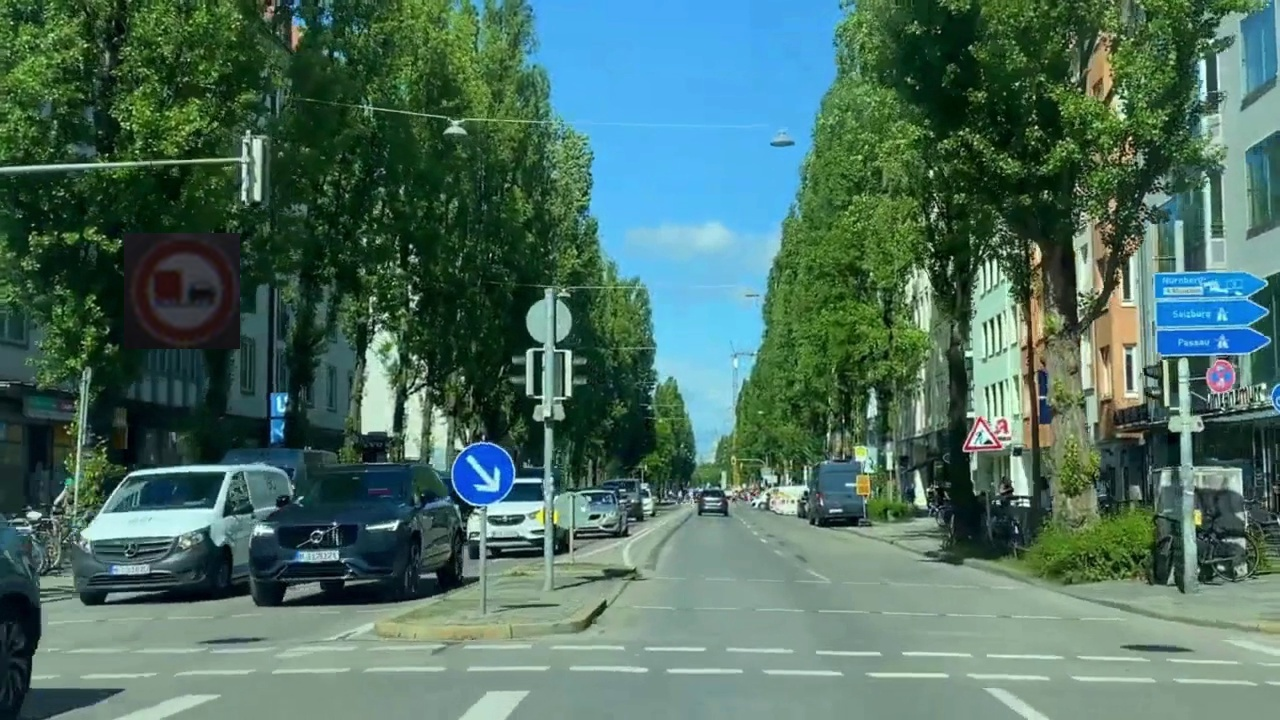No pass >3.5t: (124, 233, 240, 349)
